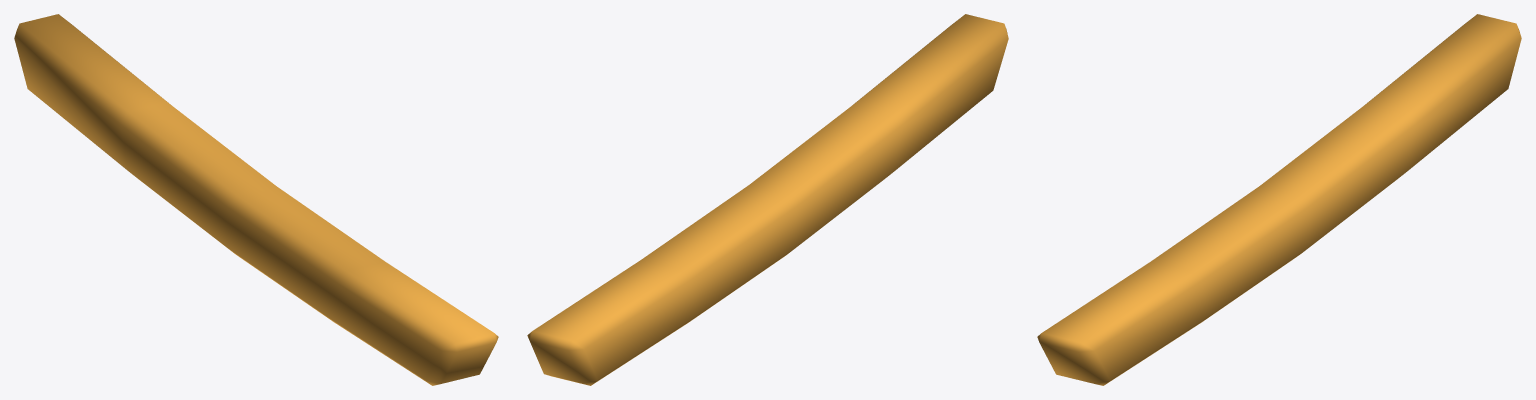
File: Fried.fbx
3 views of the same model, side by side, from view 1: azimuth 30°, elevation 25°; view 2: azimuth 150°, elevation 25°; view 3: azimuth 330°, elevation 25° (orthographic).
Parts seen in each view (by area): view 1: Cube.160; view 2: Cube.160; view 3: Cube.160.
Boxes of the visible parts, box(x1,y1,x2,y2) form: Cube.160: box(14, 14, 498, 385); Cube.160: box(527, 14, 1008, 385); Cube.160: box(1037, 14, 1521, 385).
Bounding box in the file's own units: 7.65 × 9.25 × 102.
